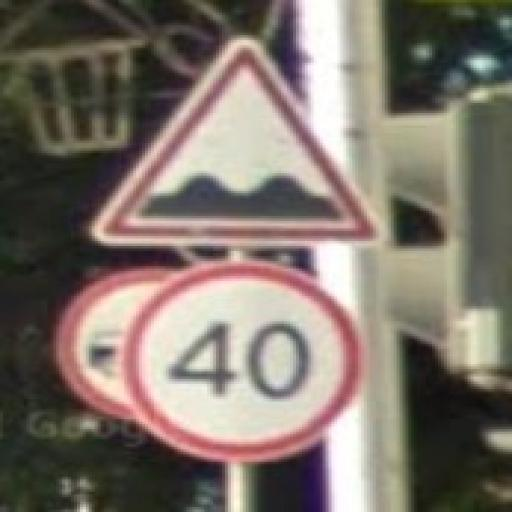traffic_sign: (93, 36, 386, 250), (122, 265, 365, 466)
